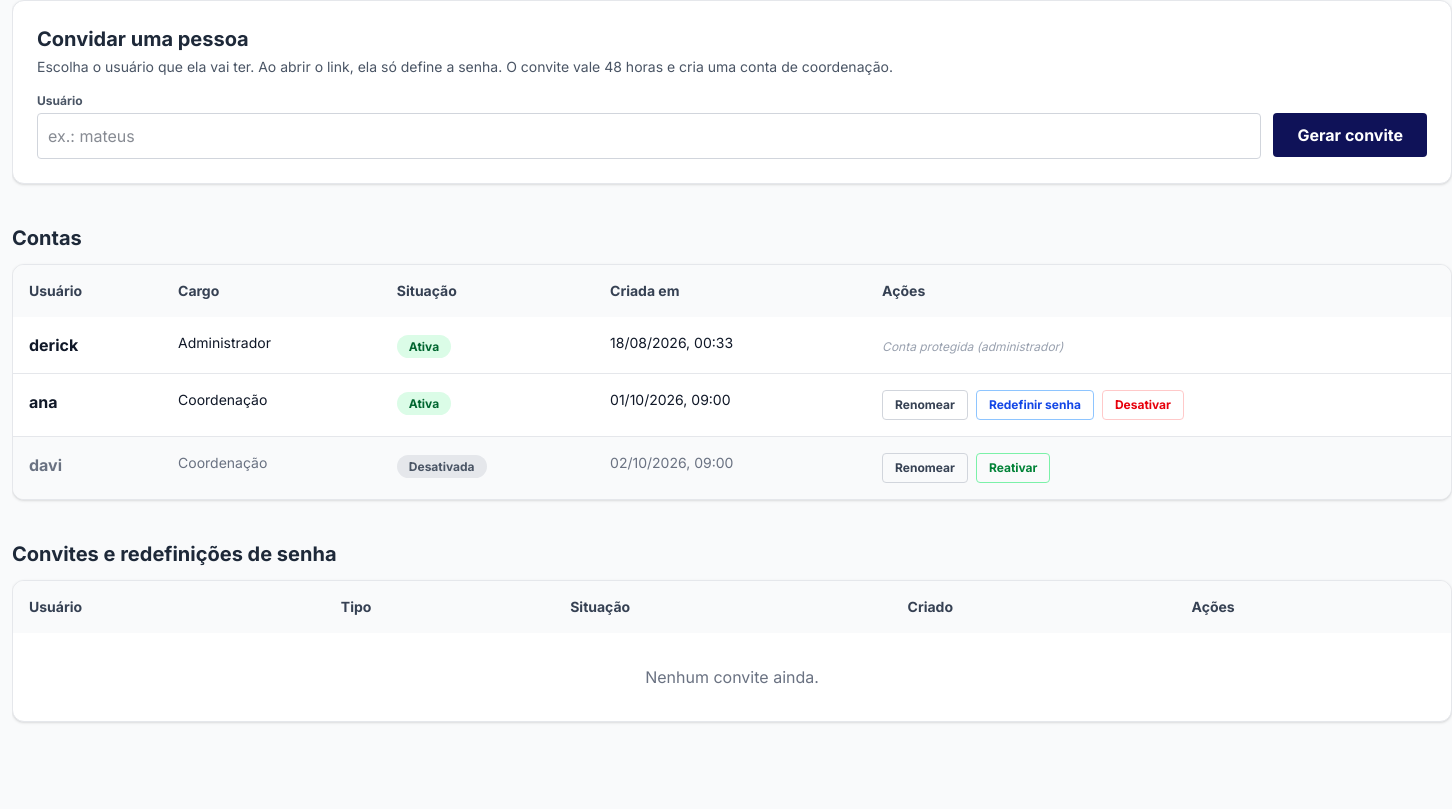
Scenario: redefinir senha › pergunta antes, avisando que a senha atual deixa de valer; ao confirmar, mostra o link
The image size is (1452, 809).
Step 1. Click the button "Redefinir senha" → [1035, 405], box [976,390,1094,420]
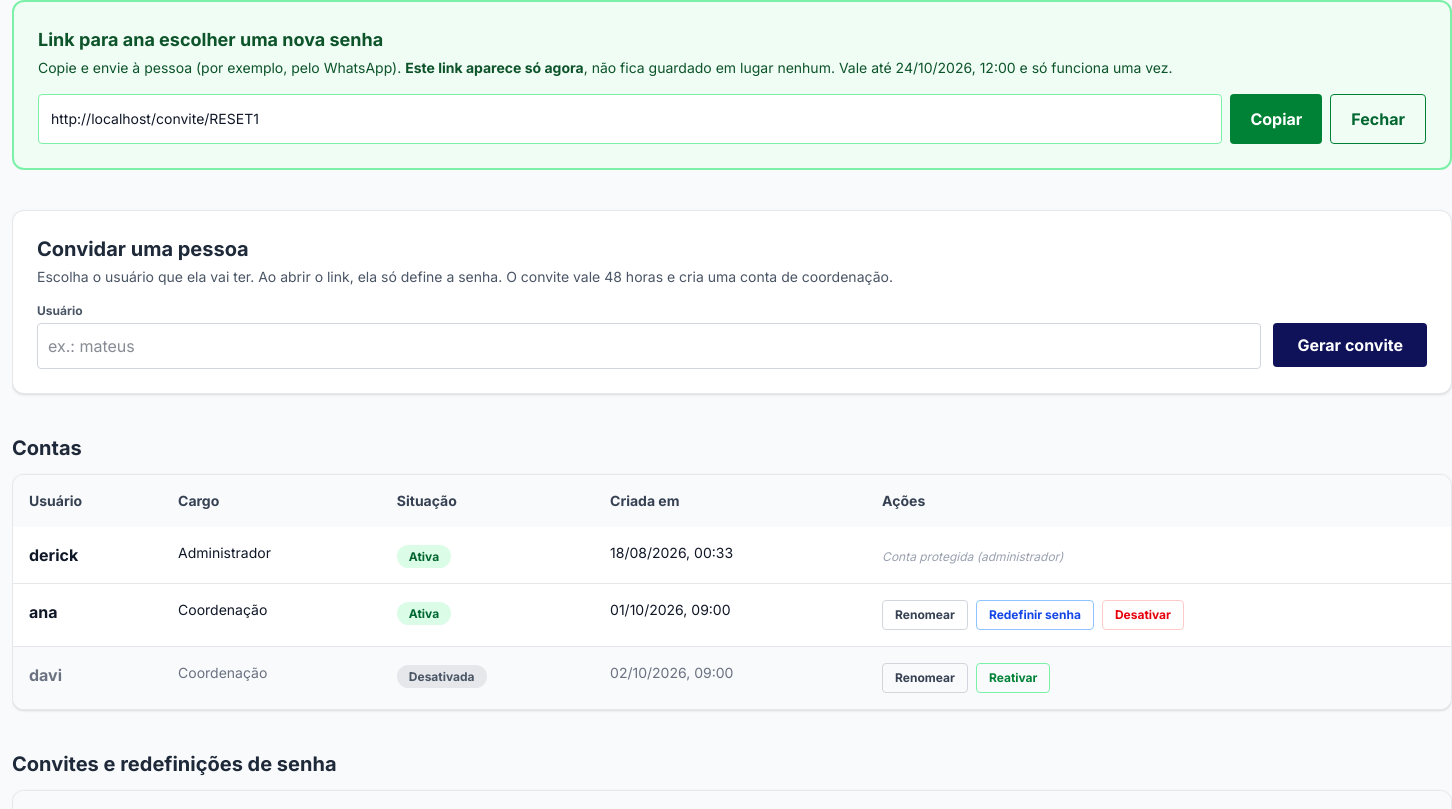
expect the heading "Link para ana escolher uma nova senha" is shown: met, box [38,29,383,50]
